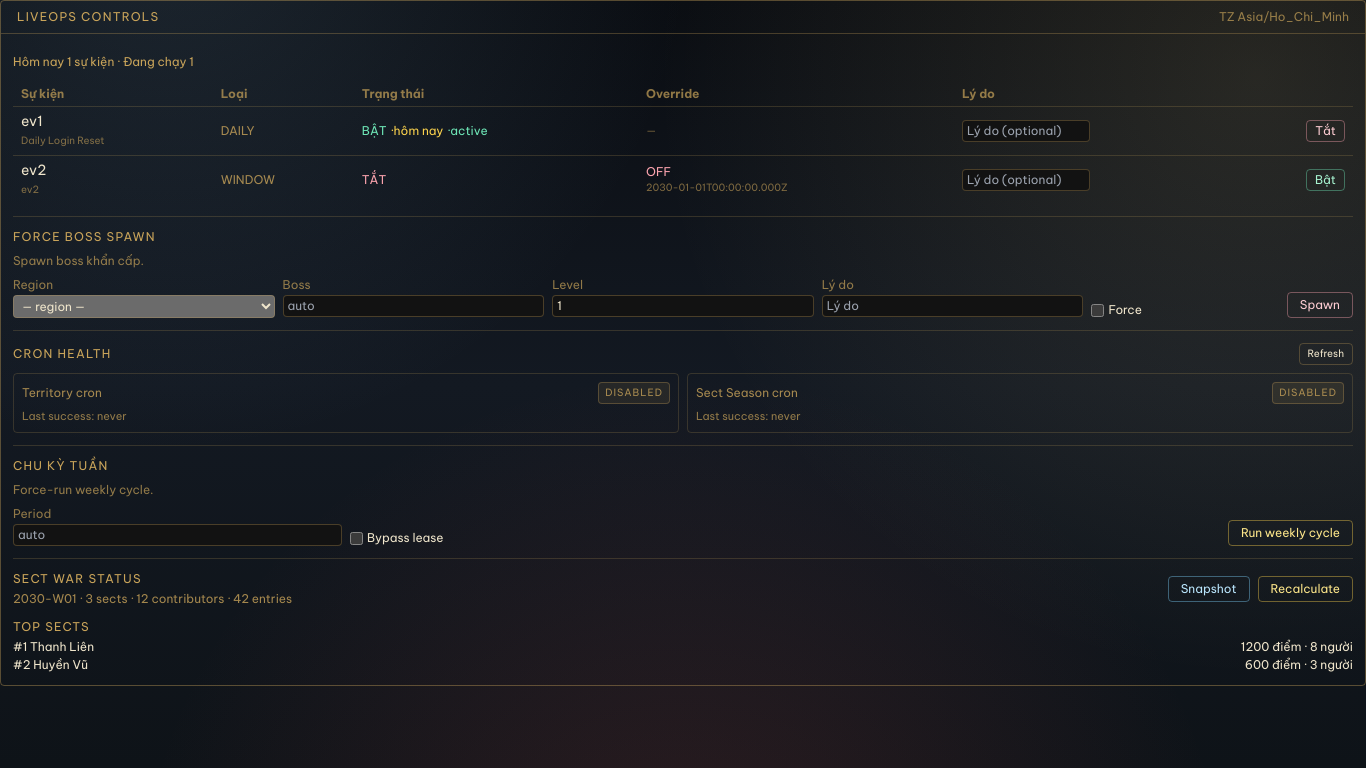
AdminLiveOpsPanel › weekly cycle: render section + submit gọi adminLiveOpsRunWeeklyCycle với input từ form
Expected: the element with test id "admin-liveops-weekly-cycle" is shown, [13,458,1353,546]
Step 1. Type "2026-W19" into the field with test id "admin-liveops-weekly-period" → (178, 535), box [13,524,342,546]
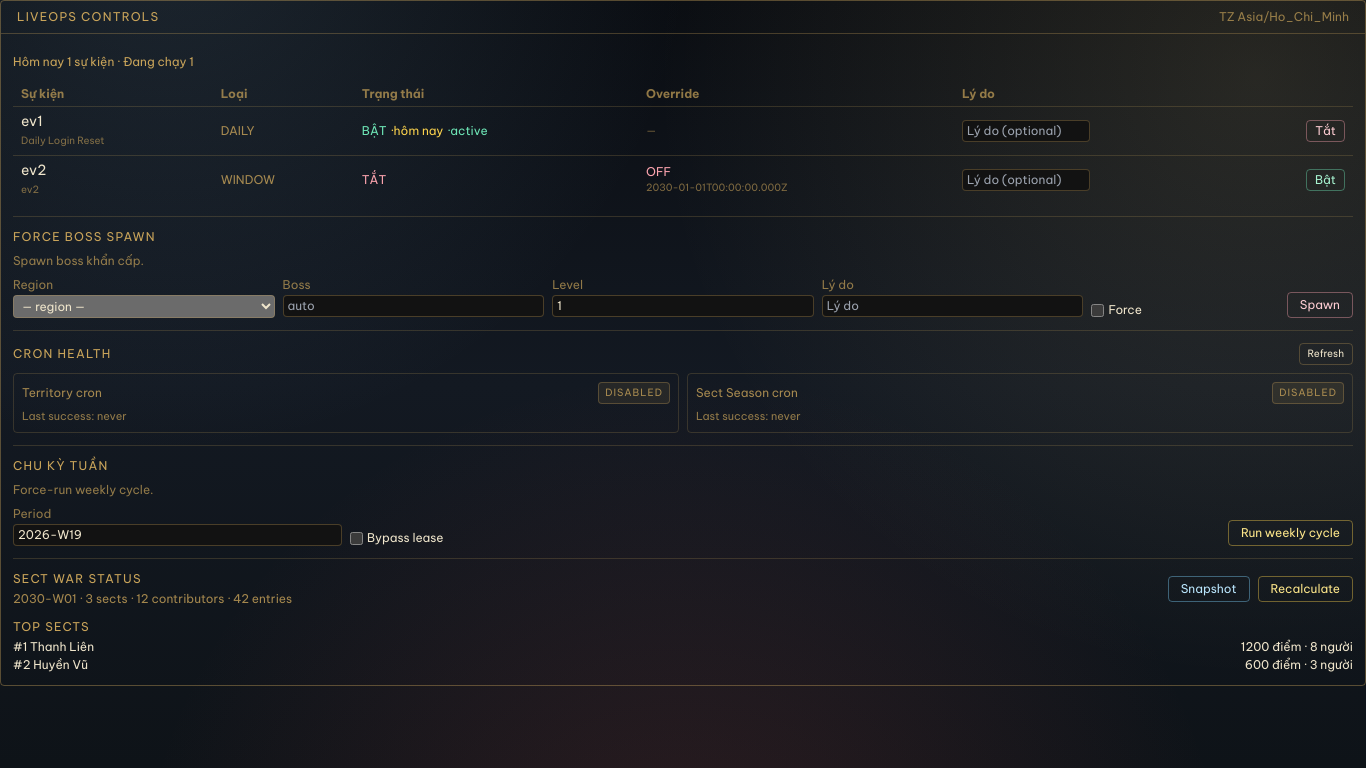
Step 2. Click the checkbox with test id "admin-liveops-weekly-bypass" → (356, 538), box [350,532,363,544]
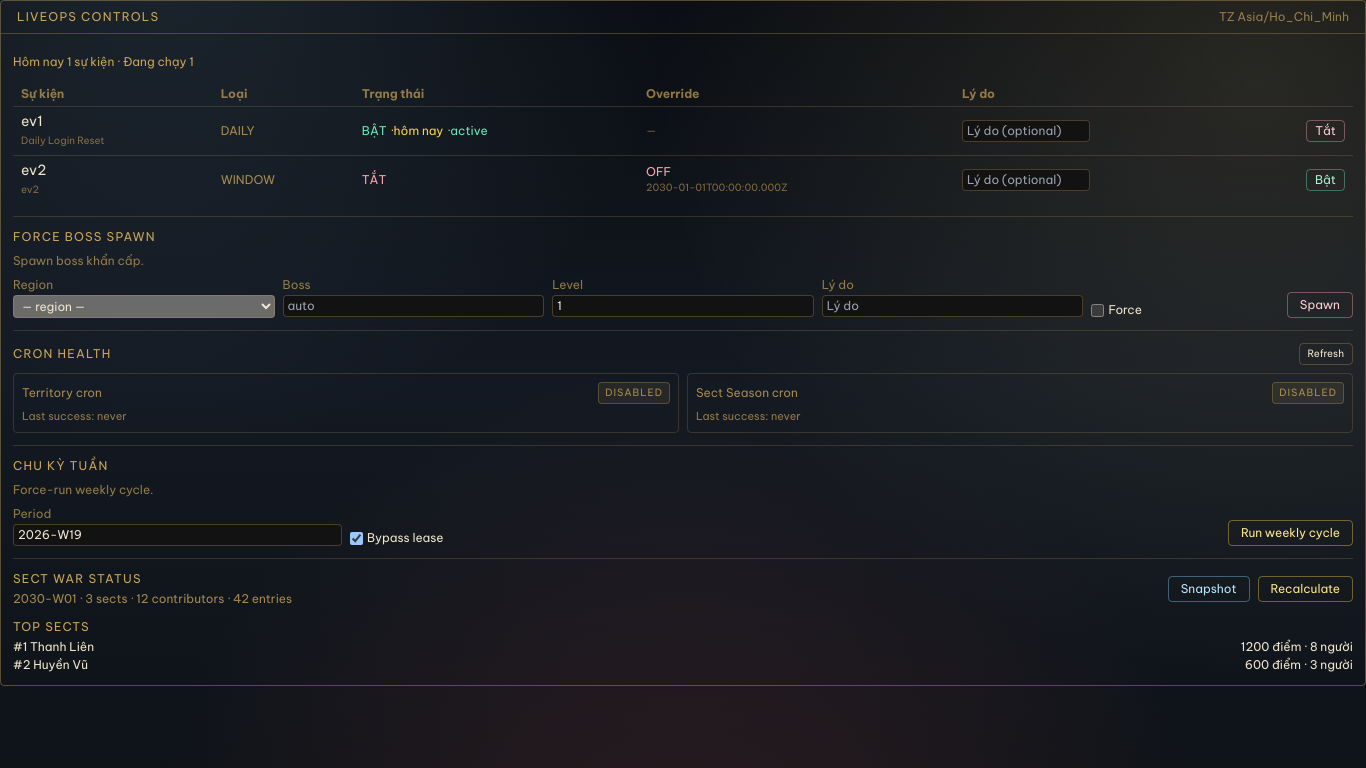
Step 3. Click the button with test id "admin-liveops-weekly-submit" → (1290, 533), box [1228,520,1353,546]
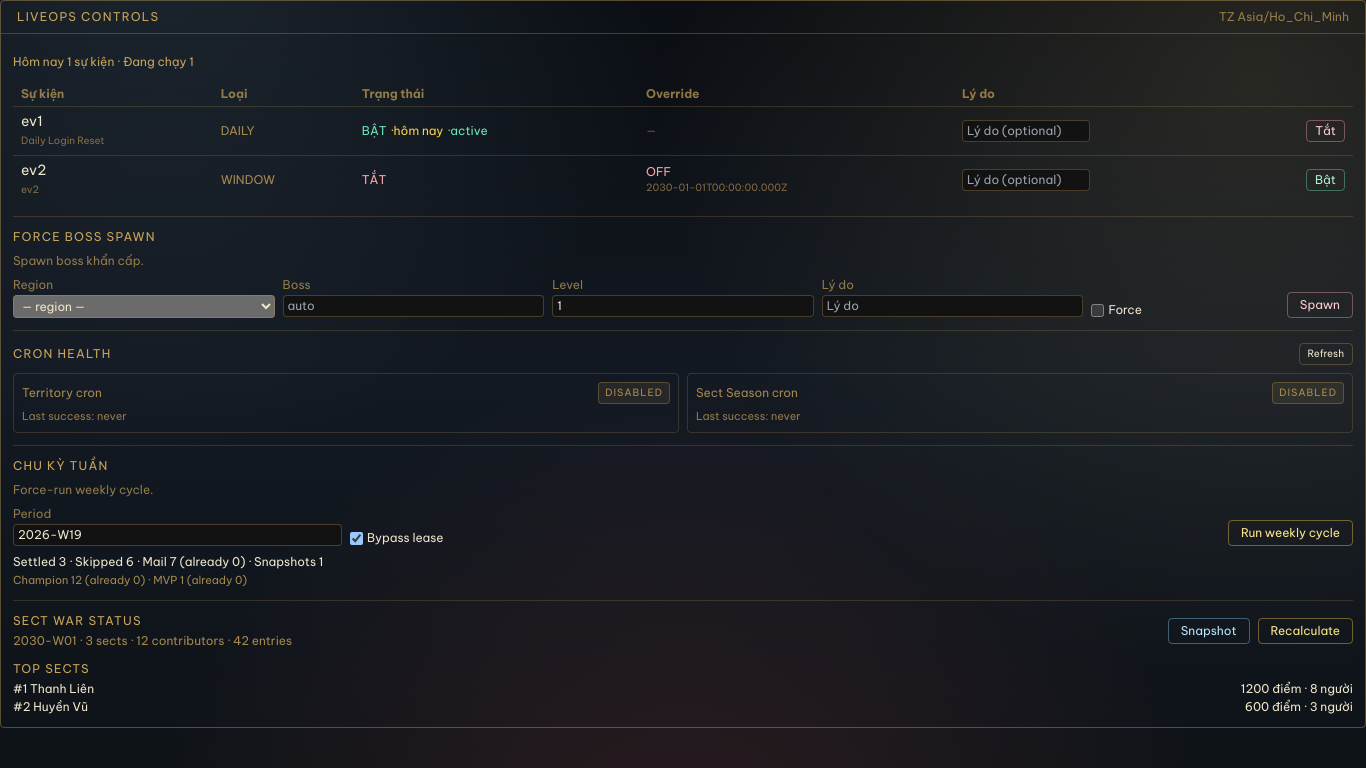
Result: the element with test id "admin-liveops-weekly-summary" is shown at [13,554,323,587]
Result: the element with test id "admin-liveops-weekly-summary" shows "Settled 3" at [13,554,323,569]
Result: the element with test id "admin-liveops-weekly-summary" shows "Mail 7" at [13,554,323,569]
